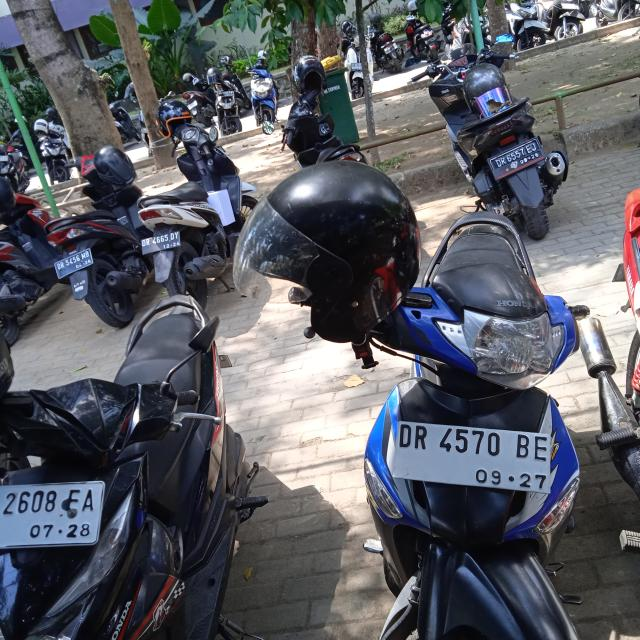plate: (395, 417, 552, 497), (0, 479, 104, 547), (487, 135, 546, 183), (54, 247, 94, 280), (140, 230, 181, 258)
